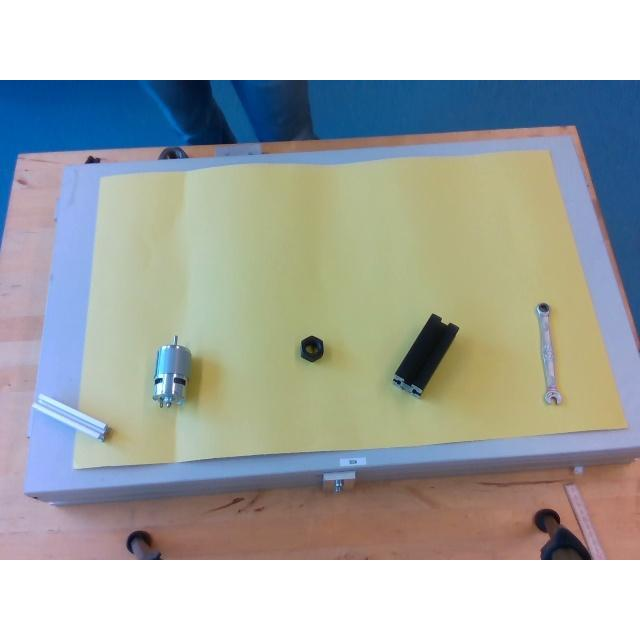F20_20_G: (30, 393, 110, 439)
M20: (300, 336, 324, 360)
Motor2: (152, 334, 190, 406)
S40_40_B: (392, 313, 458, 395)
Wrench: (536, 302, 560, 404)
